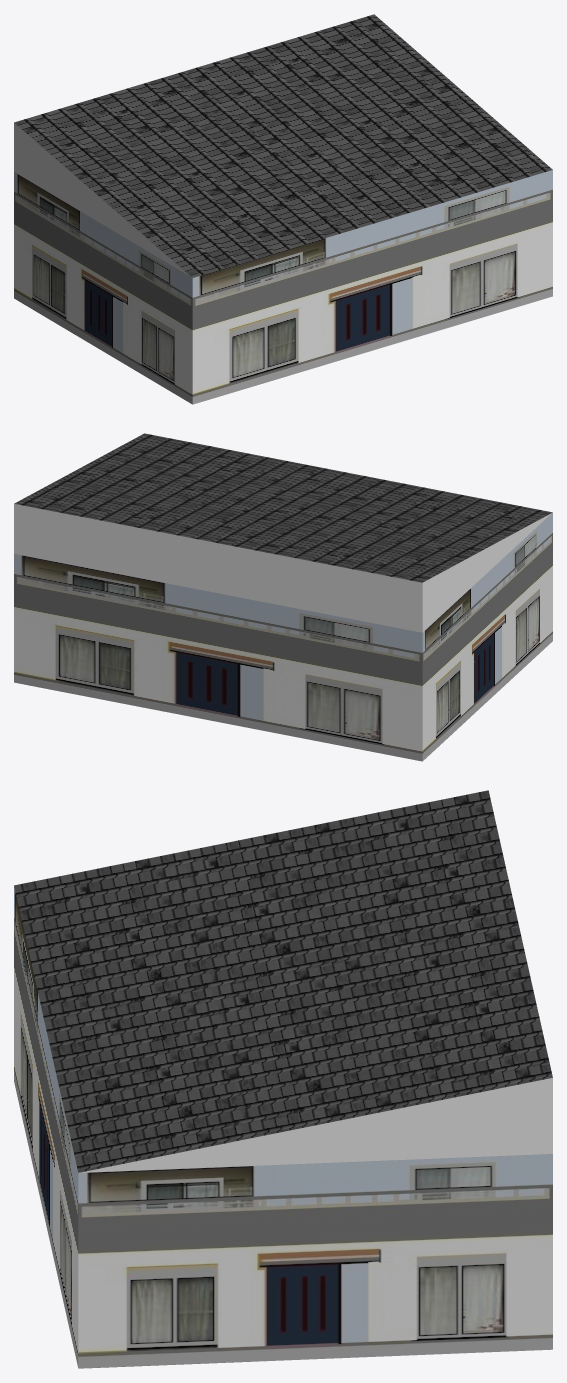
3 views of the same model, one above another, from view 1: azimuth 30°, elevation 25°; view 2: azimuth 150°, elevation 25°; view 3: azimuth 270°, elevation 25° (orthographic). The views are drawn at different scales.
Parts seen in each view (by area): view 1: CityEngineMaterial_8_m, CityEngineMaterial_7_m, CityEngineMaterial_3_m; view 2: CityEngineMaterial_7_m, CityEngineMaterial_8_m, CityEngineMaterial_3_m; view 3: CityEngineMaterial_8_m, CityEngineMaterial_7_m, CityEngineMaterial_3_m.
Boxes of the visible parts, box(x1,y1,x2,y2) form: CityEngineMaterial_8_m: box(14, 14, 552, 277); CityEngineMaterial_7_m: box(14, 170, 552, 404); CityEngineMaterial_3_m: box(14, 123, 191, 277); CityEngineMaterial_7_m: box(14, 513, 552, 761); CityEngineMaterial_8_m: box(14, 433, 552, 582); CityEngineMaterial_3_m: box(14, 504, 551, 632); CityEngineMaterial_8_m: box(14, 790, 552, 1172); CityEngineMaterial_7_m: box(14, 886, 552, 1368); CityEngineMaterial_3_m: box(79, 1078, 552, 1172).
Size of the model in its own units: 22.31 by 9.23 by 16.58.
